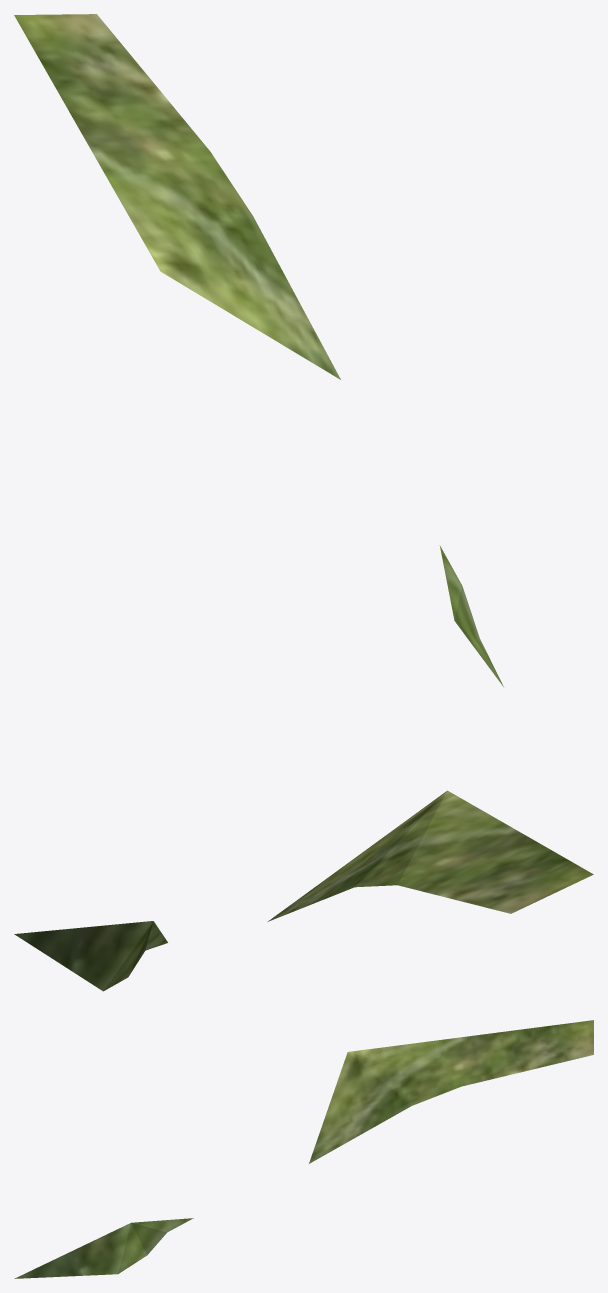
The picture shows the model from 3 angles, top to bottom: view 1: azimuth 30°, elevation 25°; view 2: azimuth 210°, elevation 25°; view 3: azimuth 270°, elevation 25°; orthographic projection. The views are drawn at different scales.
Size of the model in its own units: 1.1 by 2.87 by 6.4.
1 material, 1 textured.
